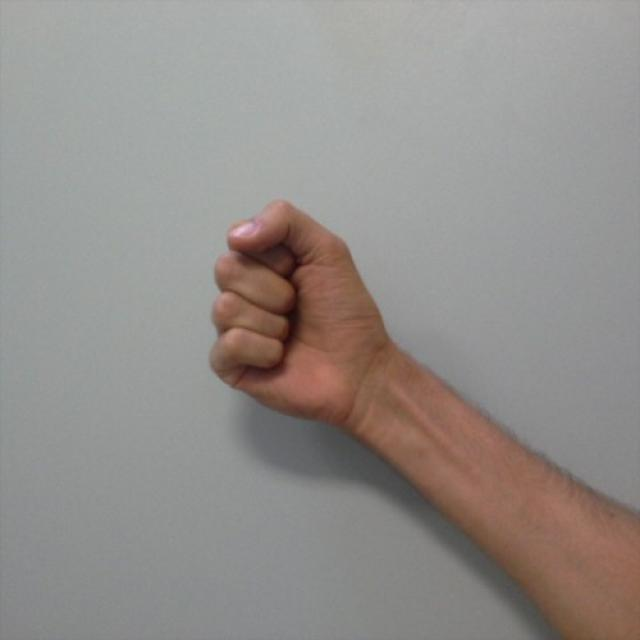fist: (202, 198, 394, 422)
